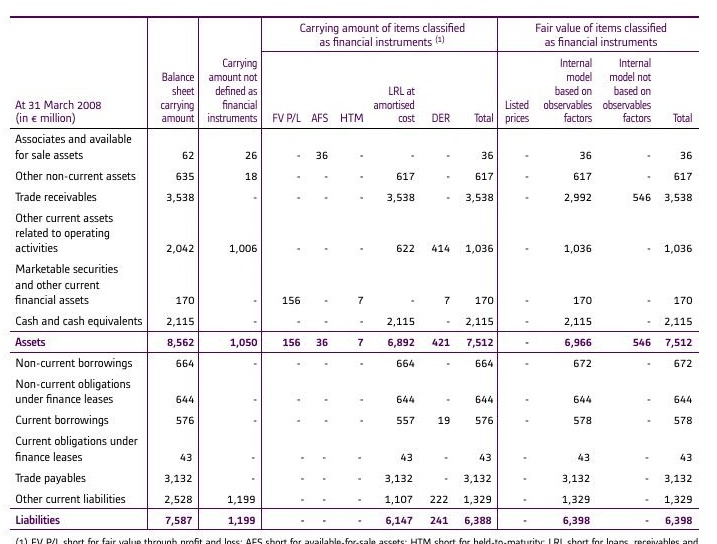table: (0, 0, 717, 544)
